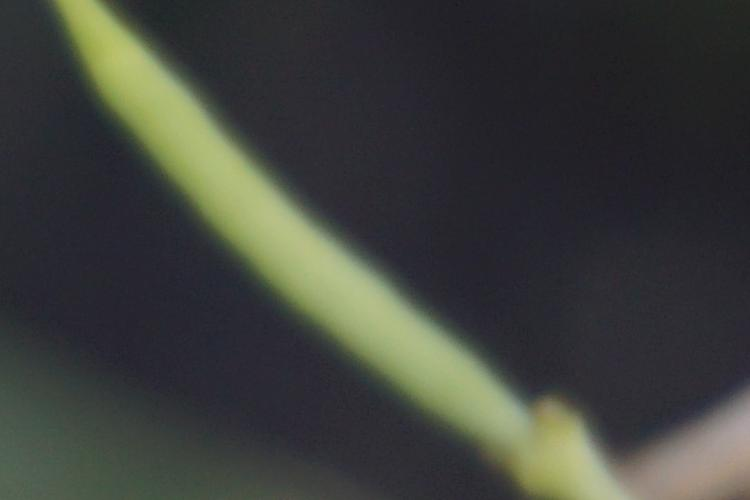pod: (61, 12, 628, 486)
